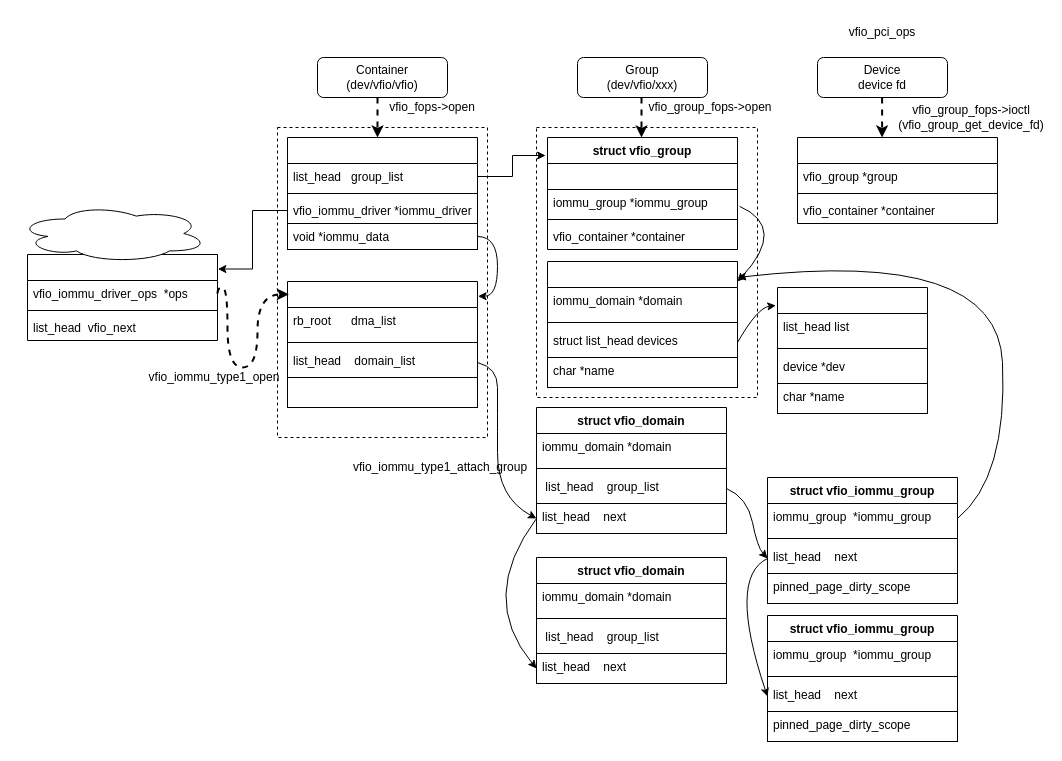
The diagram is 1062 pixels wide and 761 high, and some of its shapes have lost their labels. The box of each missing label's shape, as (x1, y1, x2, y2) in pixels:
e.g. vfio-iommu-type1: (16, 204, 208, 262)
list_head device_list: (546, 162, 738, 190)
struct group_device: (776, 286, 928, 414)
struct iommu_group: (546, 260, 738, 388)
struct vfio_container: (286, 136, 478, 250)
struct vfio_device: (796, 136, 998, 224)
struct vfio_iommu: (286, 280, 478, 408)
struct vfio_iommu_driver: (26, 254, 218, 340)
